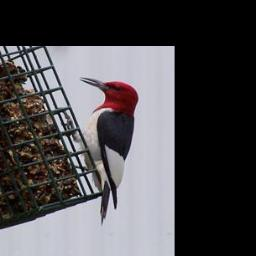Woodpecker: (63, 76, 140, 225)
